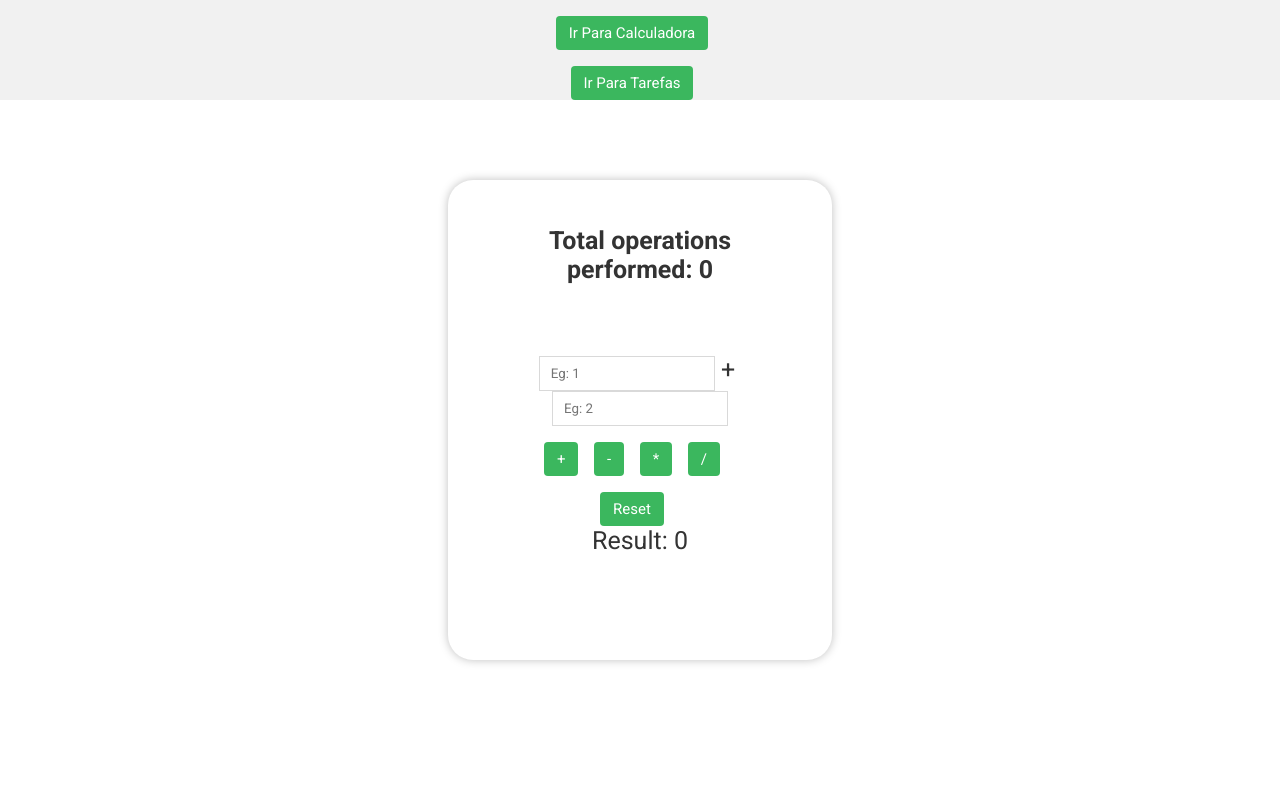
Test case: * operation works
Type "10" into the number field with test id "app-input1" at coordinates (627, 374), box [539,356,715,391]
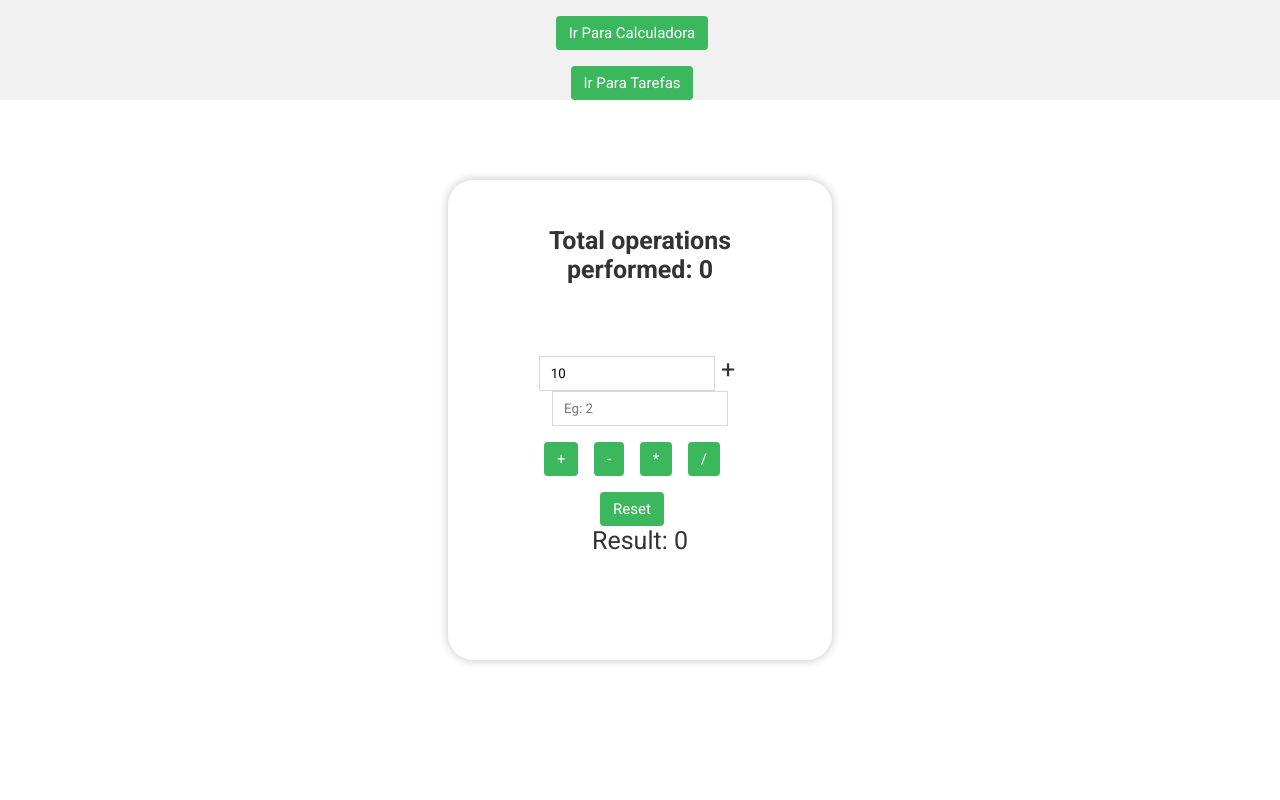
Type "5" into the number field with test id "app-input2" at coordinates (640, 409), box [552,391,728,426]
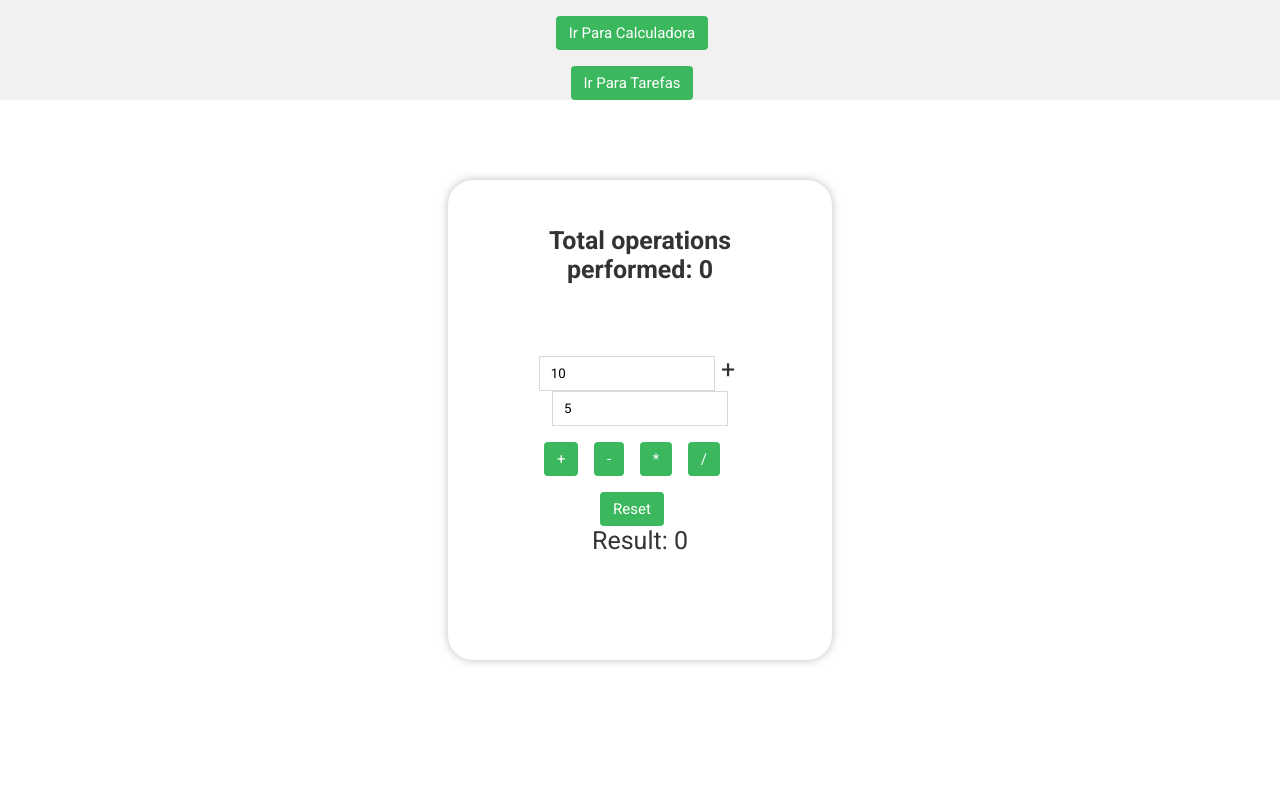
Click the button with test id "multiplyButton" at coordinates (656, 459), box [640,442,672,476]
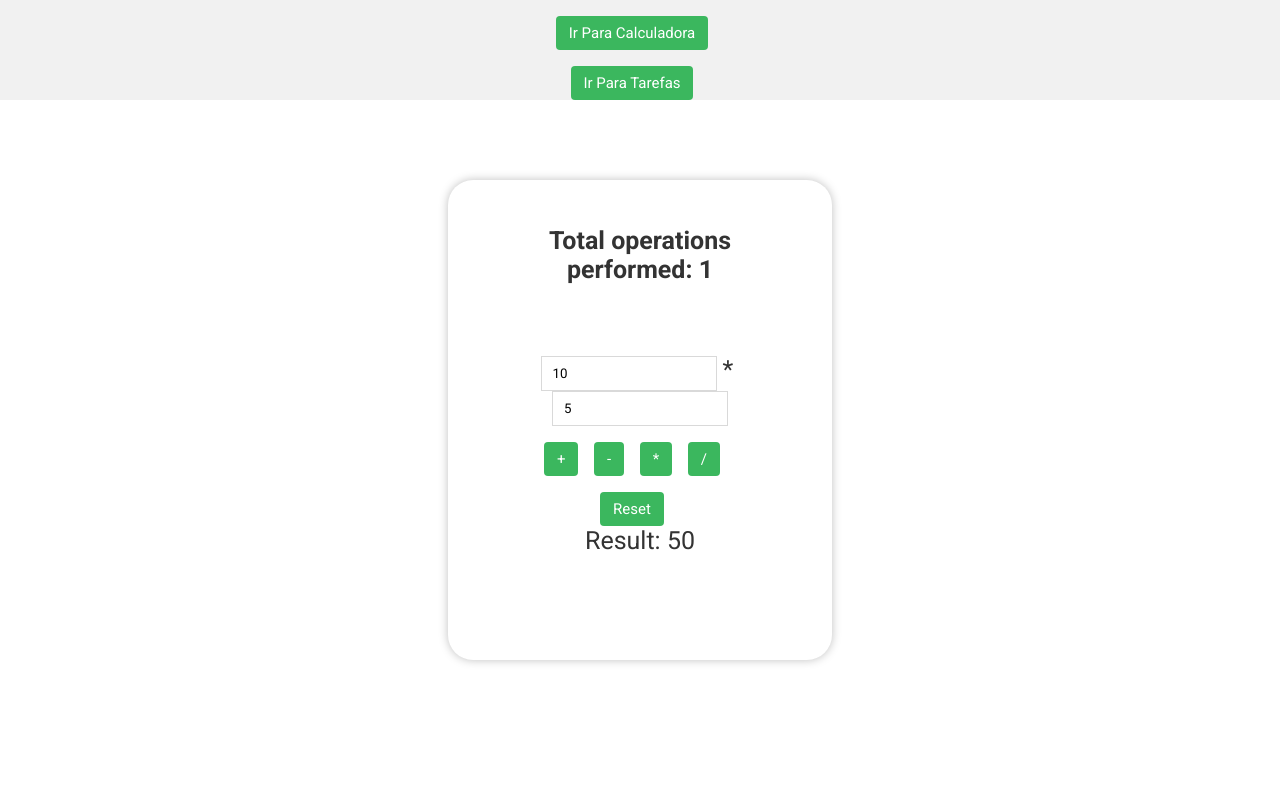
Check: the label with test id "result" reads "Result: 50", box [585,526,695,555]
Check: the label with test id "selected-operator" reads "*", box [723,355,733,384]
